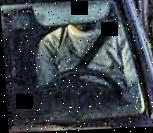seatbelt: (71, 19, 120, 66)
